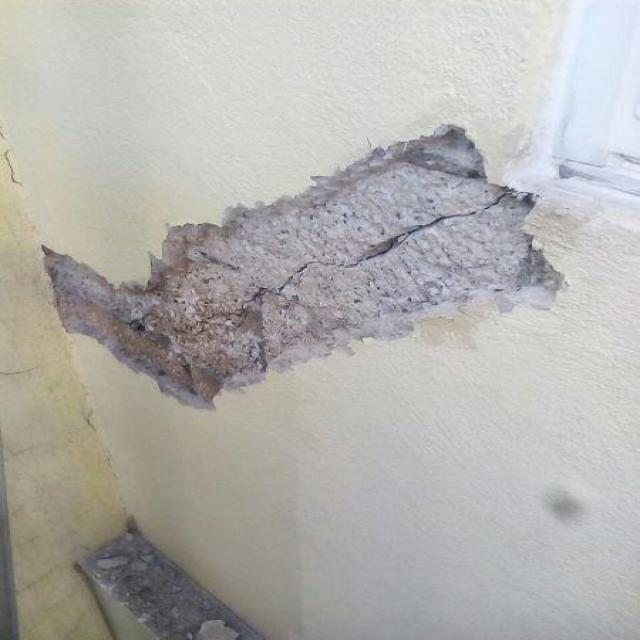spalling: (45, 124, 569, 407)
